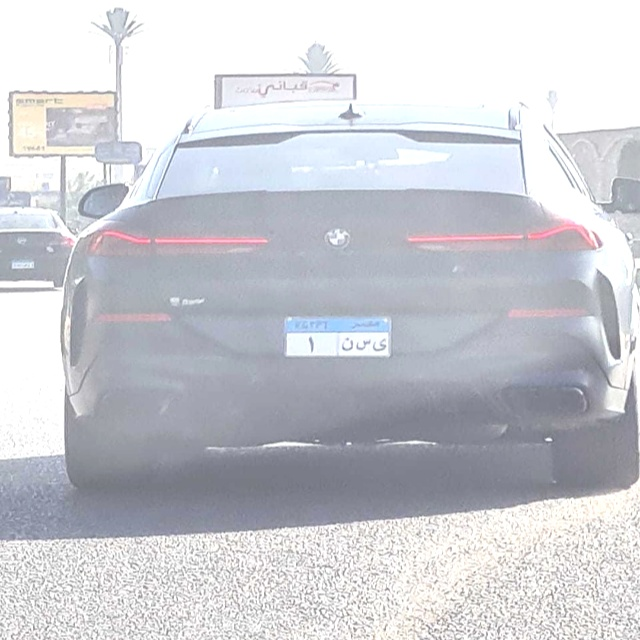License Plate: (280, 313, 393, 359)
